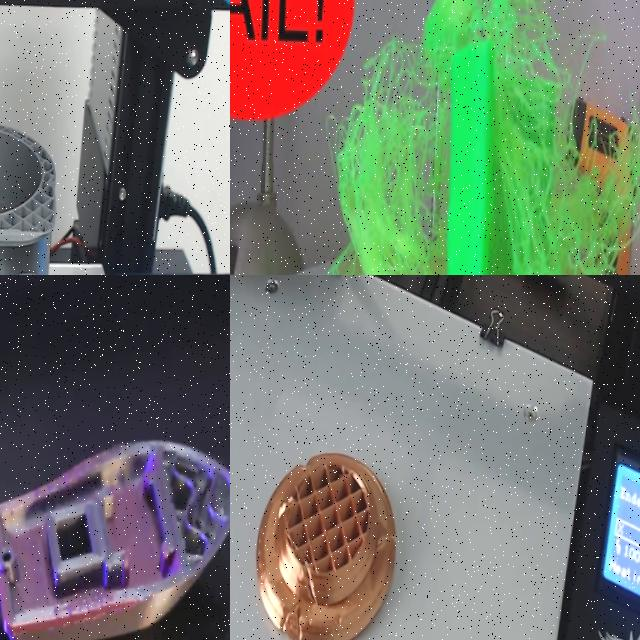spaghetti: (423, 0, 640, 275), (327, 41, 446, 275)
